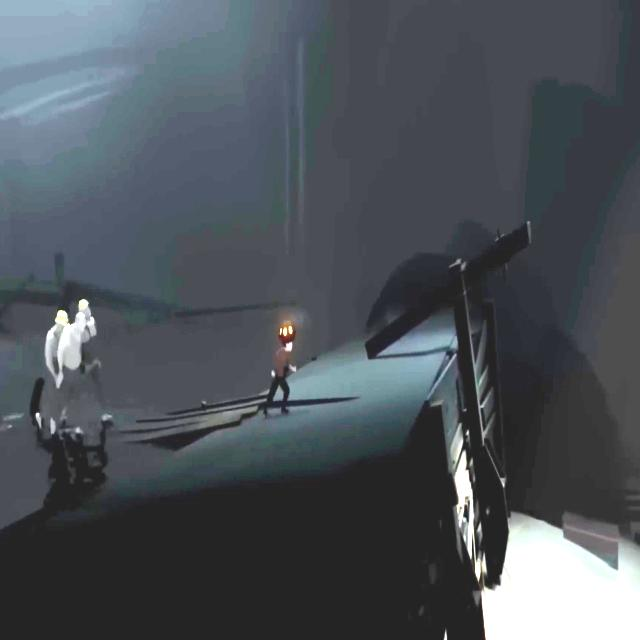boy: (264, 342, 296, 415)
zombie: (56, 313, 87, 438), (37, 307, 56, 434), (79, 299, 93, 318)
